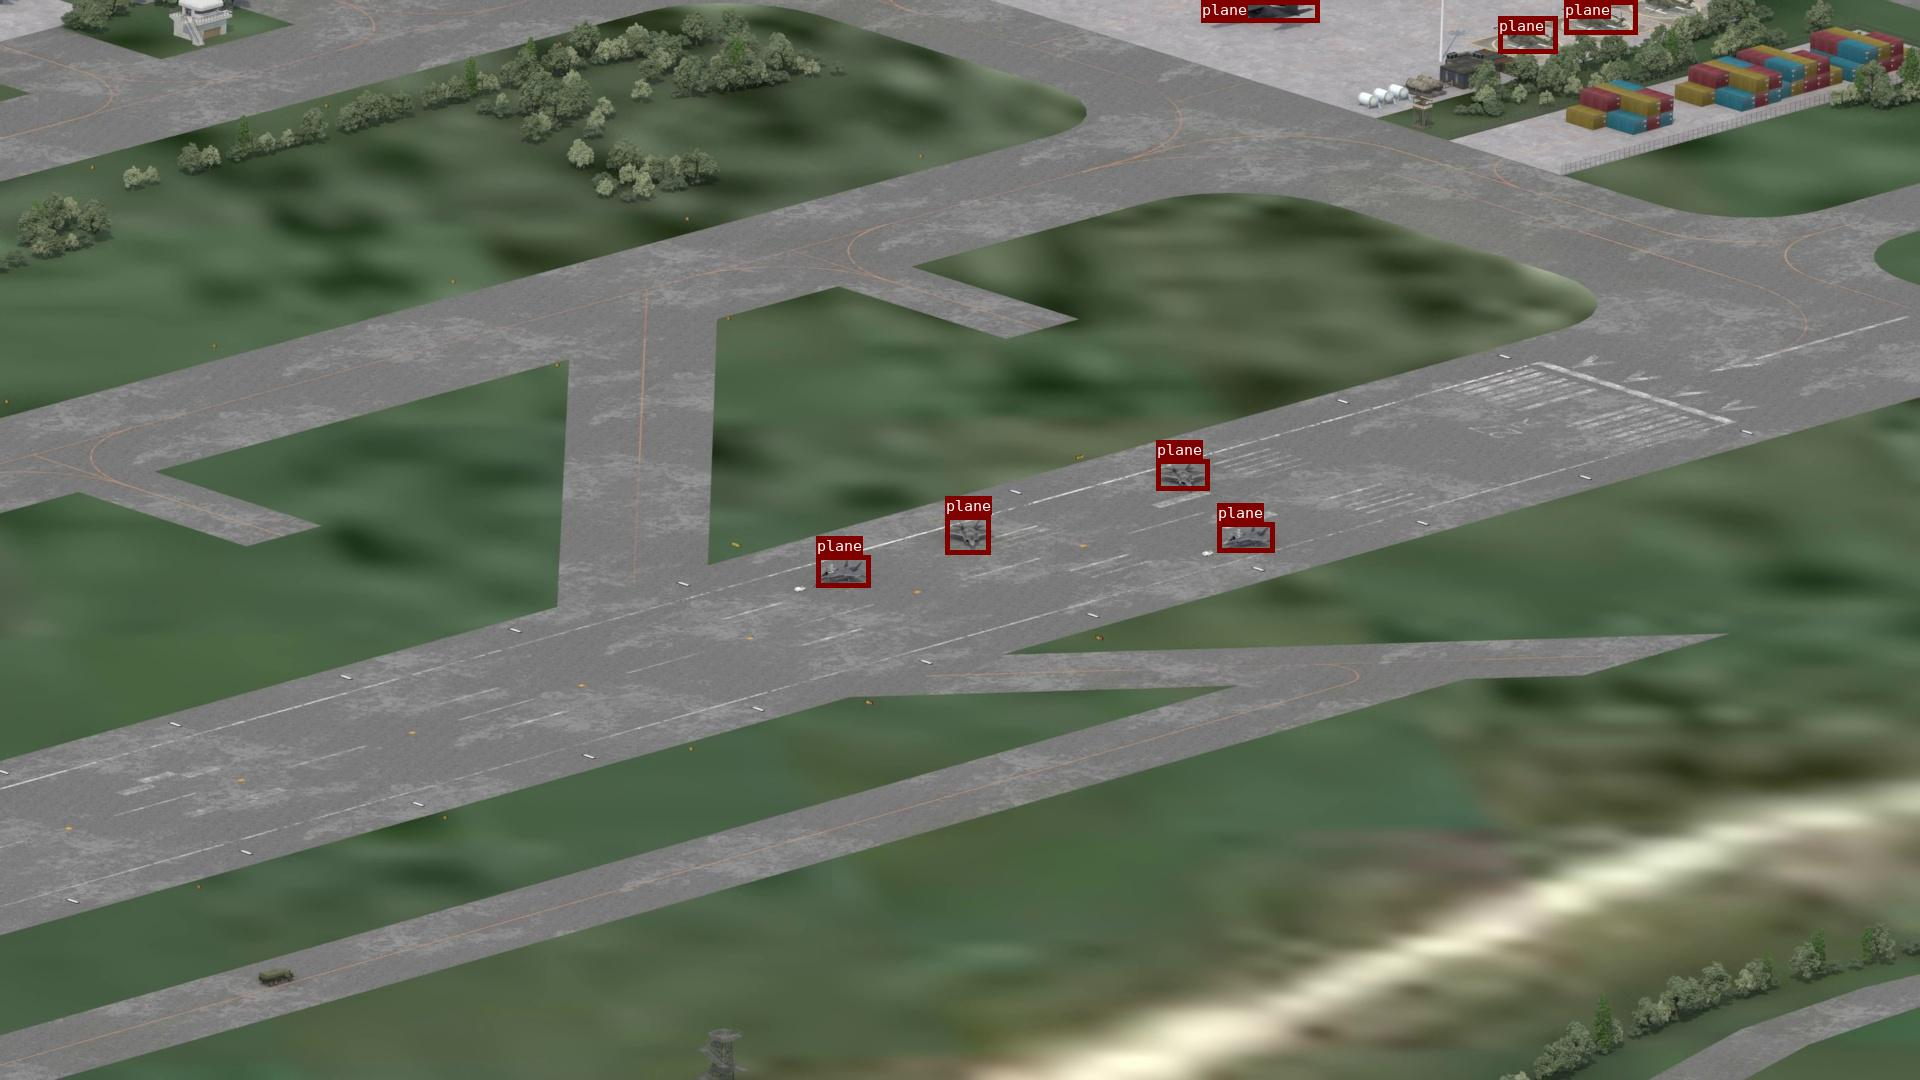plane: (1201, 0, 1319, 22), (1564, 0, 1636, 34), (1498, 16, 1557, 53), (1217, 522, 1274, 553), (945, 516, 990, 554), (816, 555, 870, 587), (1156, 459, 1209, 491)
